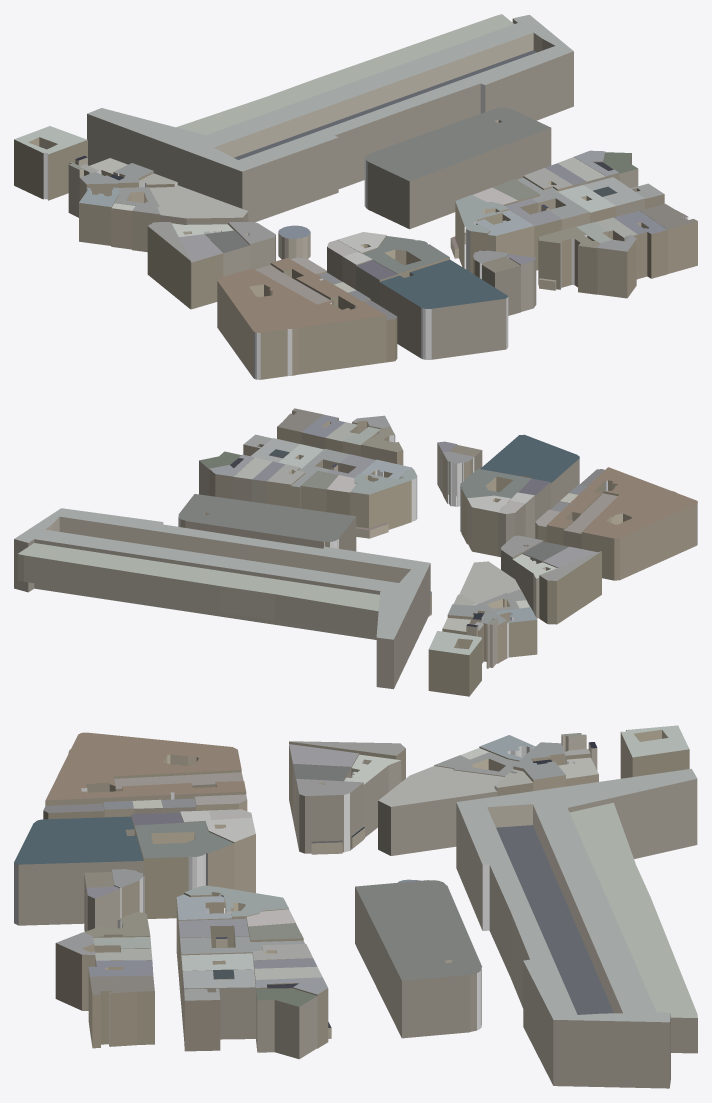
The picture shows the model from 3 angles, top to bottom: view 1: azimuth 30°, elevation 25°; view 2: azimuth 150°, elevation 25°; view 3: azimuth 270°, elevation 25°; orthographic projection. The views are drawn at different scales.
Visible parts, largest first — view 1: tuile; view 2: tuile; view 3: tuile.
Part boxes in pixels (x1,y1,x2,y2): tuile: [14, 14, 697, 379]; tuile: [14, 408, 697, 696]; tuile: [14, 725, 697, 1088].
Size of the model in its own units: 290 by 41.88 by 276.
